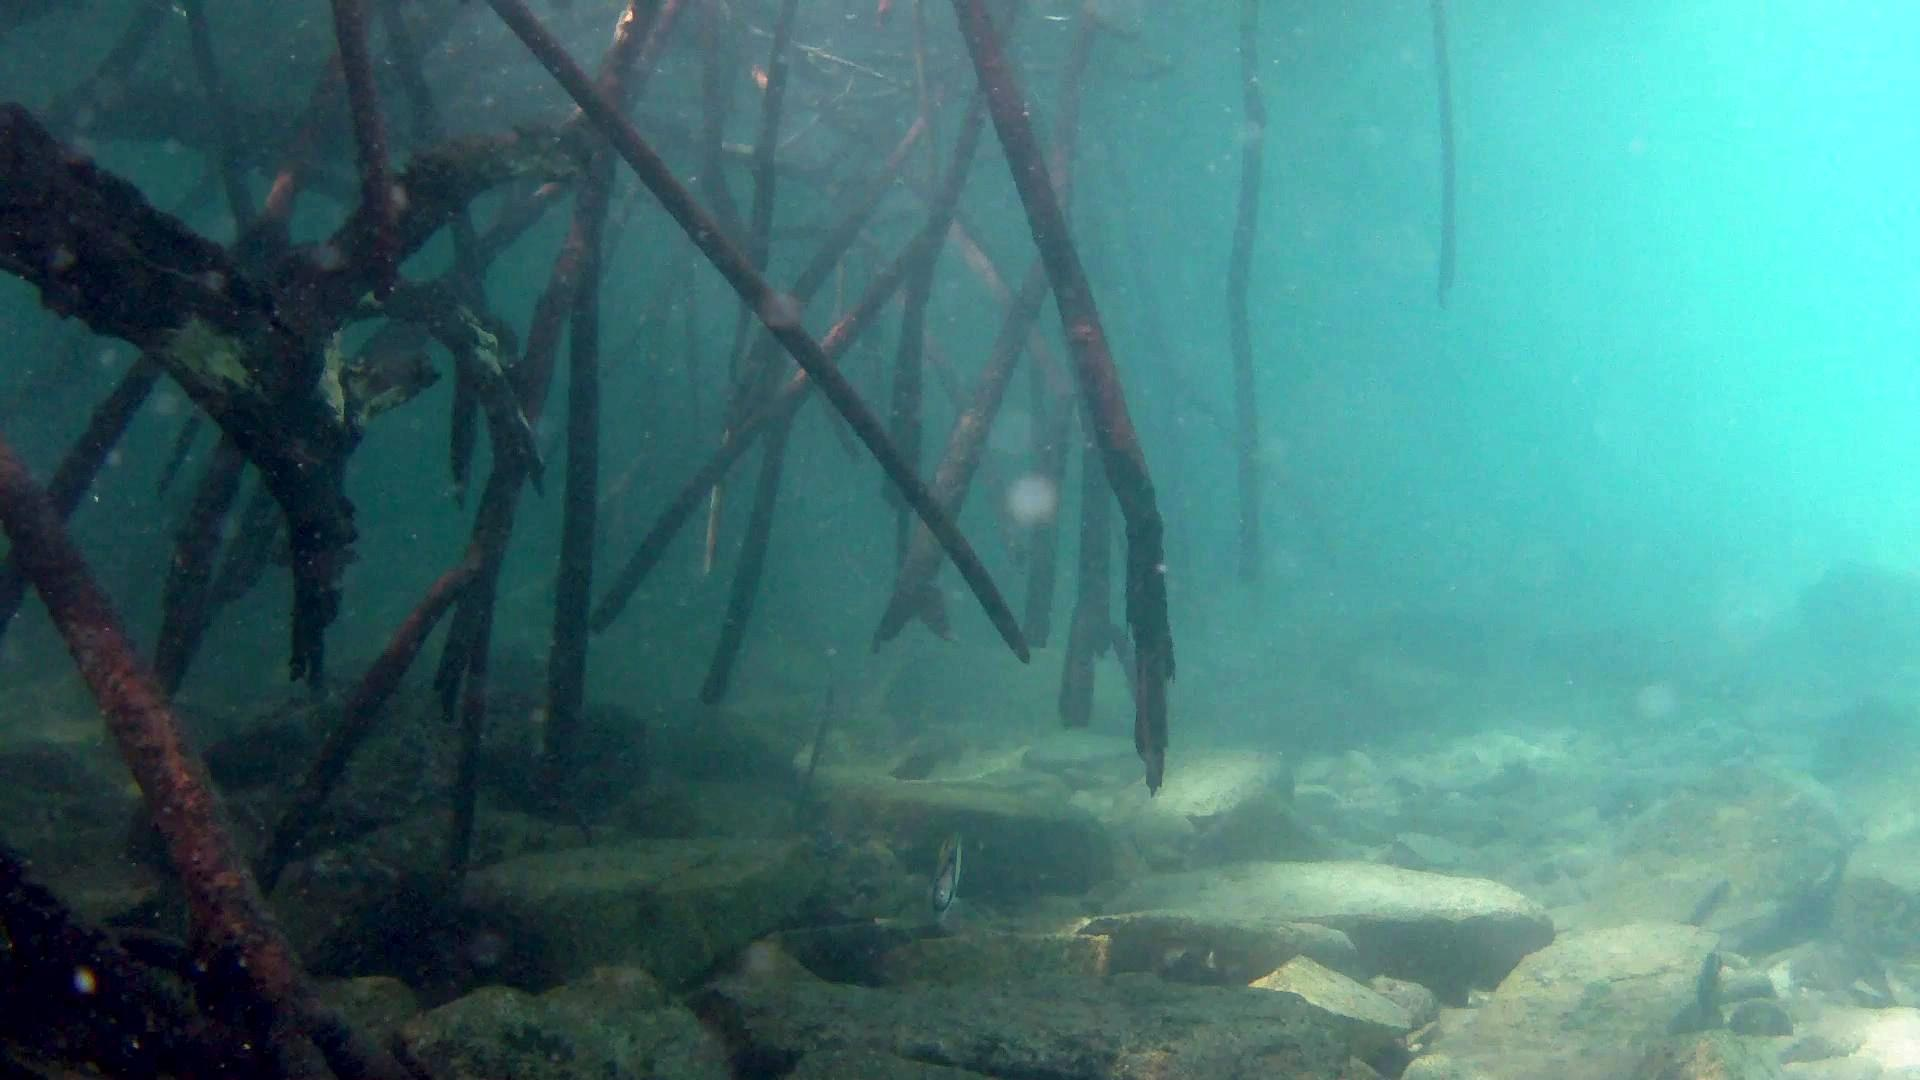chaetodon vagabundus: (927, 827, 968, 930)
